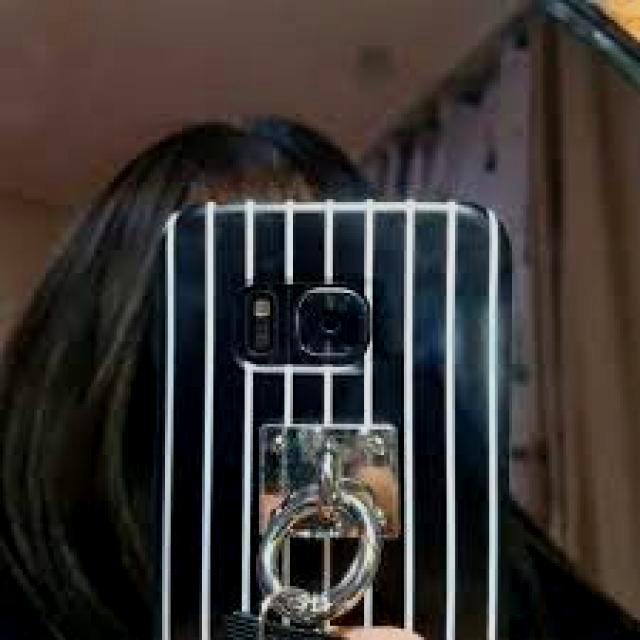lens: (238, 277, 378, 371)
phone: (162, 197, 511, 640)
